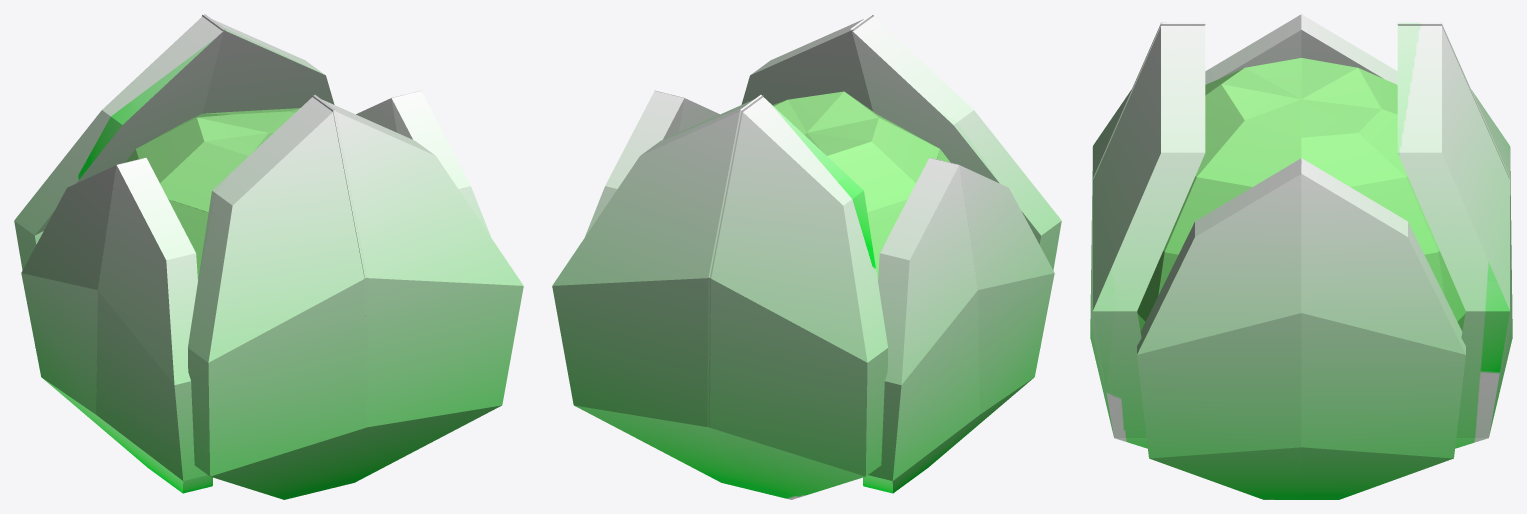
The model's file is Cabbage.glb.
3 renders of one model, left to right at view 1: azimuth 30°, elevation 25°; view 2: azimuth 150°, elevation 25°; view 3: azimuth 270°, elevation 25°, orthographic. The views are drawn at different scales.
Parts seen in each view (by area): view 1: Plane, Plane.001, Sphere; view 2: Plane, Plane.001, Sphere; view 3: Plane.001, Plane, Sphere.
Boxes of the visible parts, box(x1,y1,x2,y2) form: Plane: box(14, 14, 523, 499); Plane.001: box(21, 90, 490, 493); Sphere: box(125, 108, 299, 280); Plane: box(552, 14, 1061, 499); Plane.001: box(585, 90, 1054, 493); Sphere: box(772, 91, 950, 280); Plane.001: box(1137, 14, 1465, 499); Plane: box(1090, 22, 1512, 448); Sphere: box(1137, 58, 1465, 331).
Bounding box in the file's own units: 2.05 × 2.28 × 2.02.
2 materials, 2 textured.
